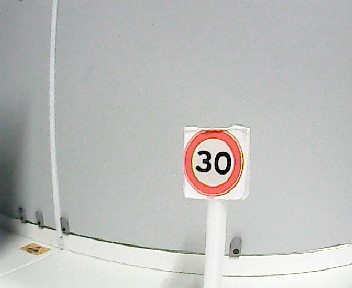30-bord: (186, 128, 245, 197)
